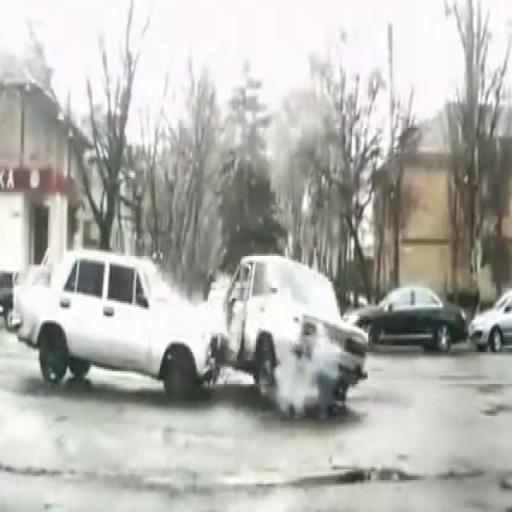小汽车: (346, 286, 468, 351), (468, 285, 511, 352)
小汽车撞小汽车: (11, 249, 371, 414)
